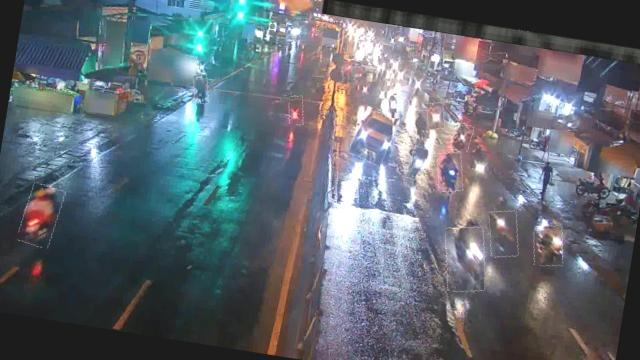Bike: (439, 222, 492, 294), (18, 182, 64, 248), (485, 208, 523, 259), (530, 223, 567, 268), (434, 150, 466, 194), (449, 122, 474, 153), (407, 146, 429, 180), (191, 72, 211, 103), (412, 109, 432, 140), (424, 102, 446, 130), (286, 95, 305, 126), (386, 94, 405, 120)
Car: (349, 106, 398, 166)
